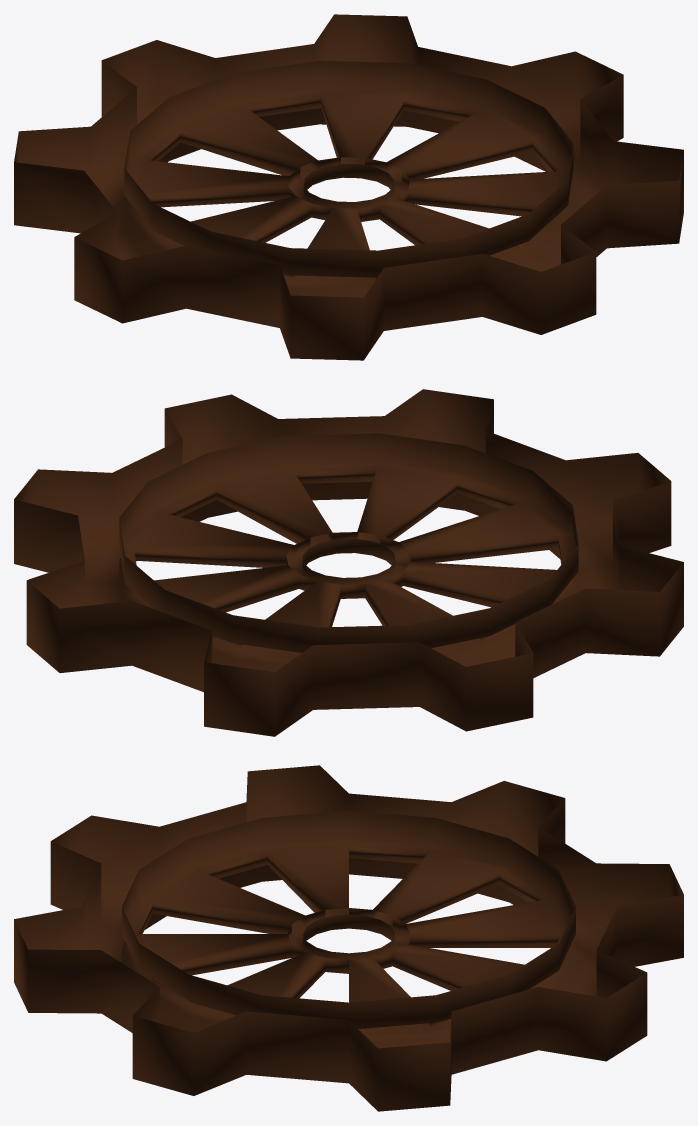
File: BossGear02.fbx
3 renders of one model, top to bottom at view 1: azimuth 30°, elevation 25°; view 2: azimuth 150°, elevation 25°; view 3: azimuth 270°, elevation 25°, orthographic. The views are drawn at different scales.
Parts seen in each view (by area): view 1: gear3_low.004; view 2: gear3_low.004; view 3: gear3_low.004.
Boxes of the visible parts, <box> form: gear3_low.004: <box>14,14,683,360</box>; gear3_low.004: <box>14,389,683,736</box>; gear3_low.004: <box>14,765,683,1111</box>.
Size of the model in its own units: 17091 by 1797 by 17092.
